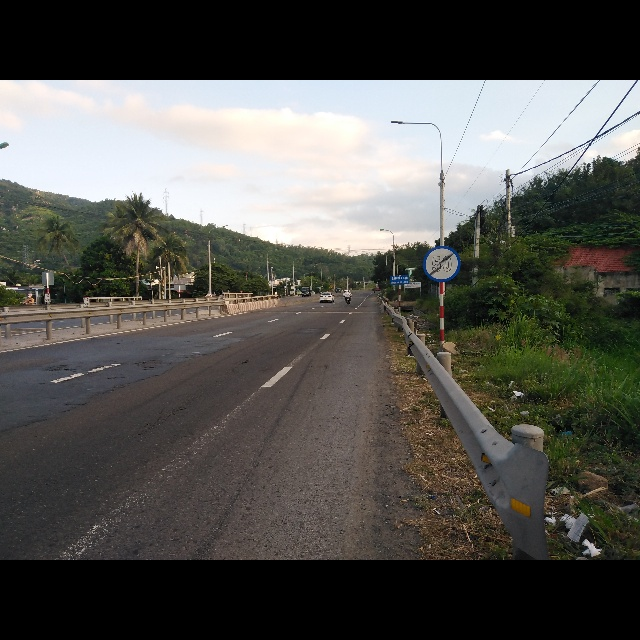Hết hạn chế tốc độ tối đa 50km/h: (423, 244, 461, 282)
